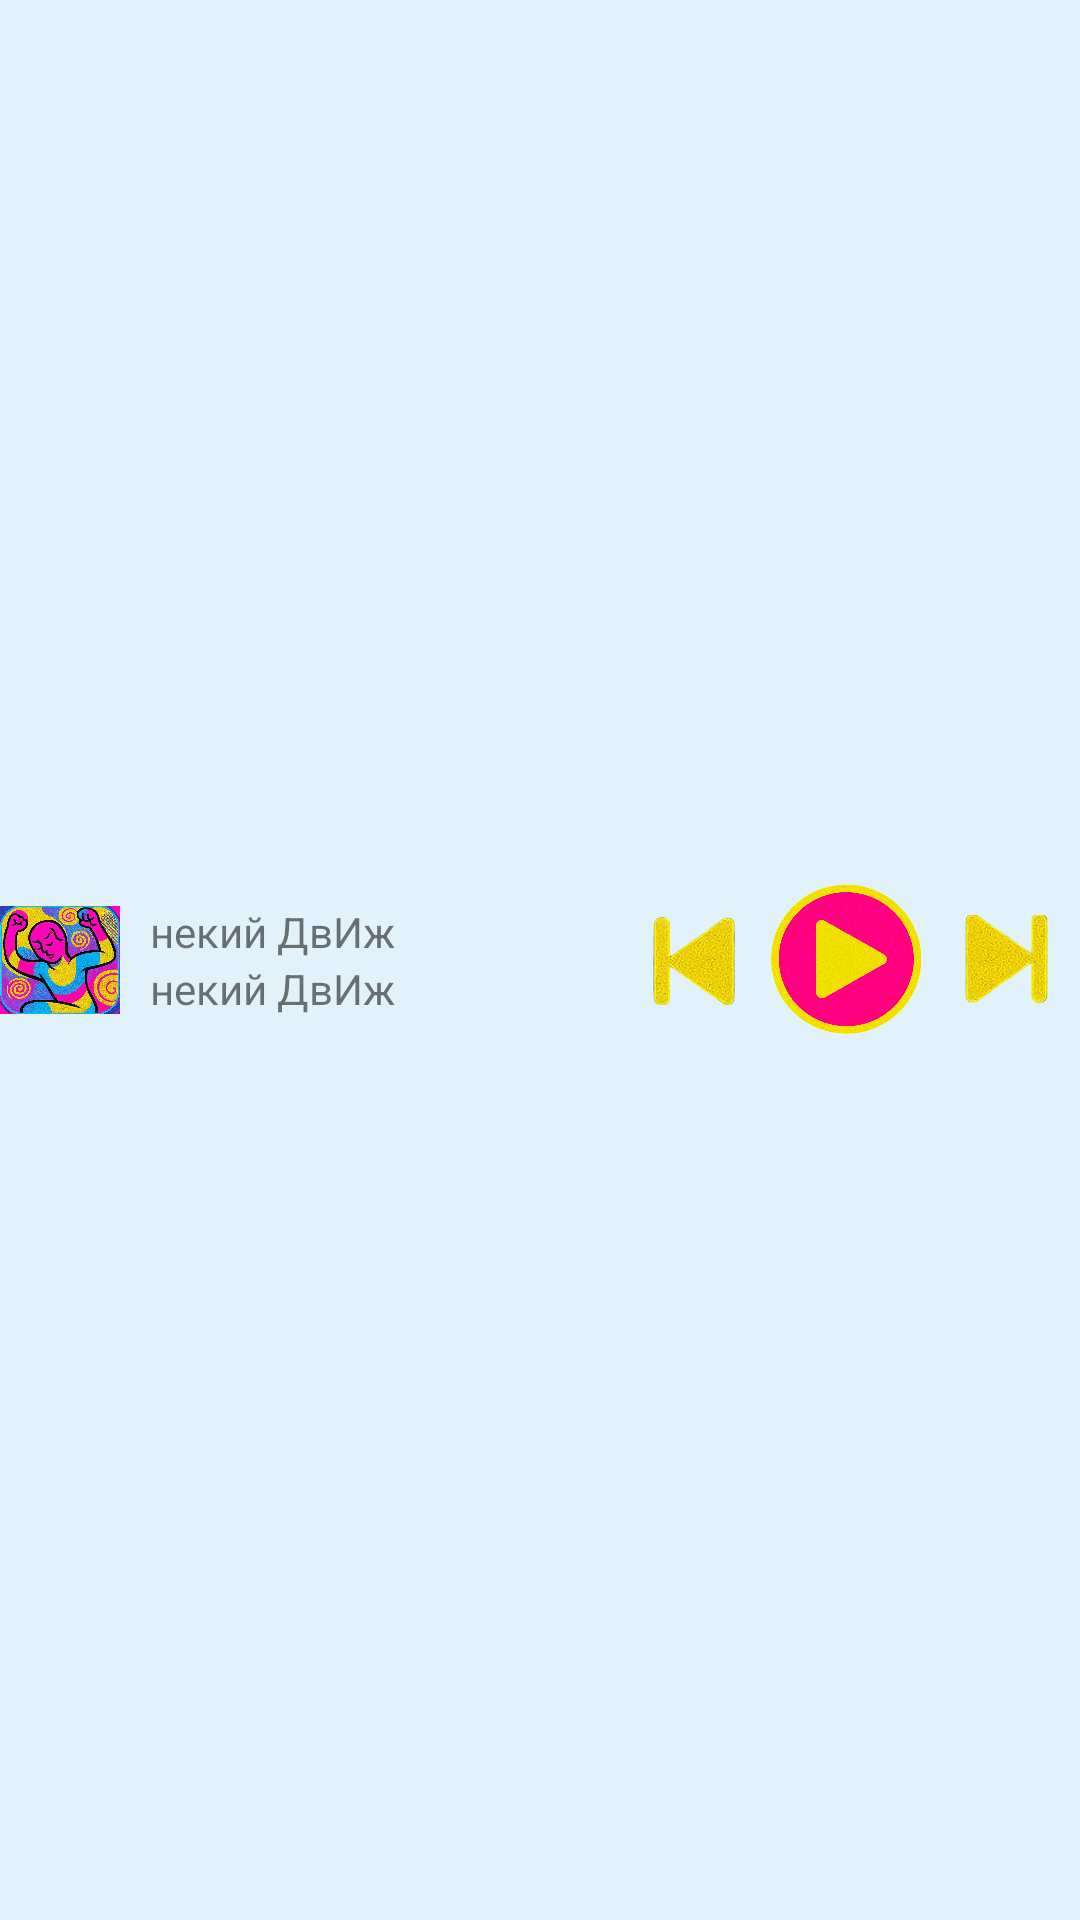

Locate icon controls on the screen. Image size 1080px x 1920px, boxes as (x1, y1, x2, y2).
back: (653, 917, 735, 1005)
next: (965, 915, 1048, 1003)
play: (771, 885, 921, 1034)
